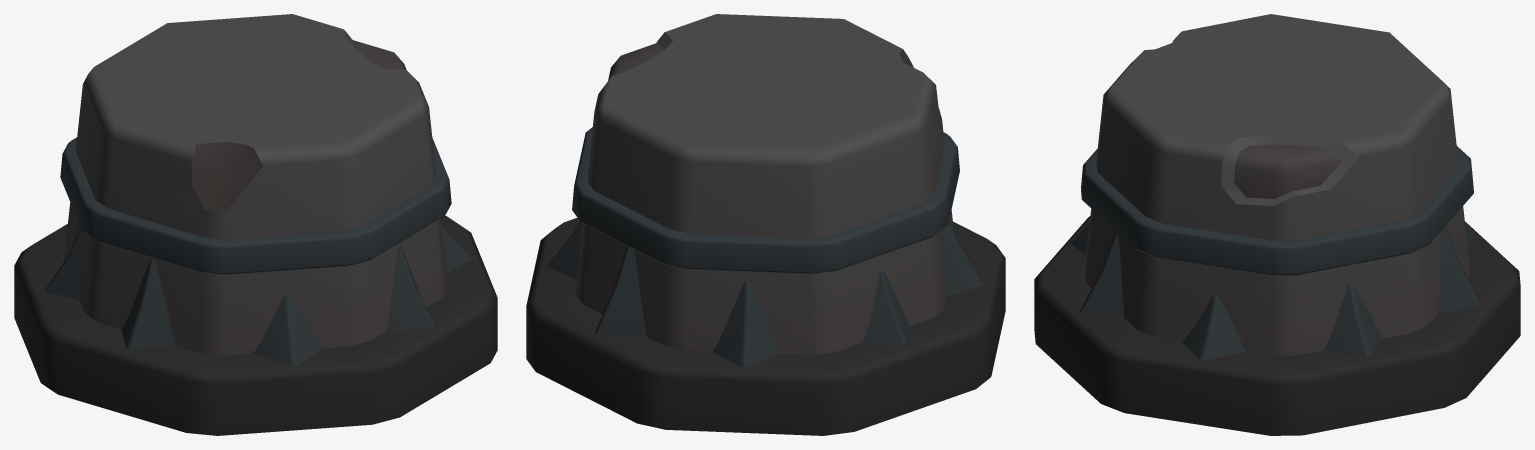
File: inferno-base-small-001.glb
3 views of the same model, side by side, from view 1: azimuth 30°, elevation 25°; view 2: azimuth 150°, elevation 25°; view 3: azimuth 270°, elevation 25° (orthographic).
Parts seen in each view (by area): view 1: BaseSmall_001; view 2: BaseSmall_001; view 3: BaseSmall_001.
Boxes of the visible parts, <box> form: BaseSmall_001: <box>14,14,497,435</box>; BaseSmall_001: <box>526,14,1005,435</box>; BaseSmall_001: <box>1034,14,1520,435</box>.
Size of the model in its own units: 6.88 by 4.02 by 6.88.
Materials: 1 (1 with a texture image).
